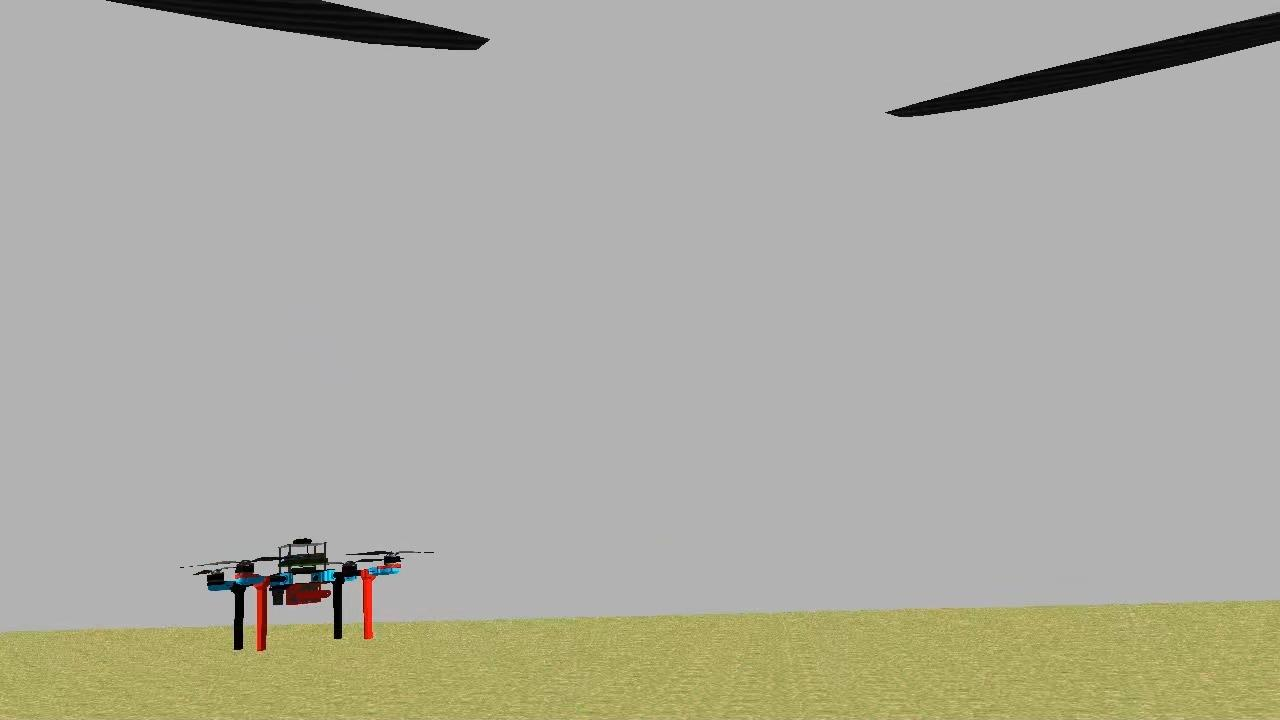UAV: (192, 526, 408, 664)
